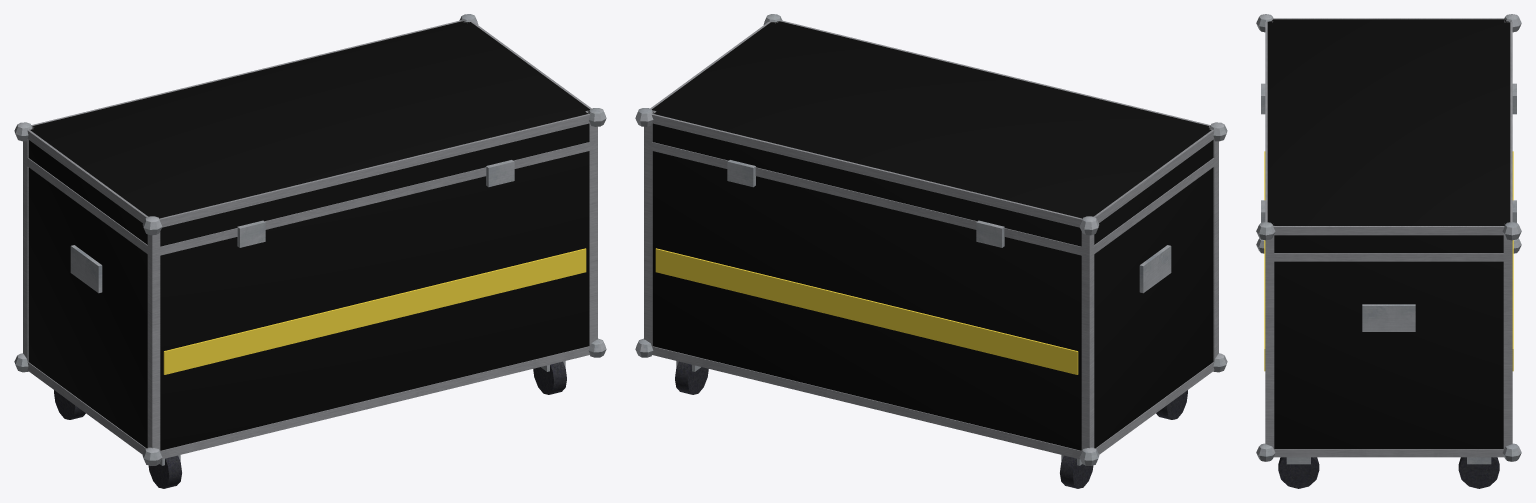
File: cable_trunk.gltf
The picture shows the model from 3 angles, left to right: view 1: azimuth 30°, elevation 25°; view 2: azimuth 150°, elevation 25°; view 3: azimuth 270°, elevation 25°; orthographic projection. The views are drawn at different scales.
Visible parts, largest first — view 1: cable_trunk; view 2: cable_trunk; view 3: cable_trunk.
Boxes of the visible parts, x1,y1,x2,y2 form: cable_trunk: (14, 14, 606, 488); cable_trunk: (635, 14, 1227, 488); cable_trunk: (1256, 14, 1521, 488).
Size of the model in its own units: 1.25 by 0.747 by 0.648.
5 materials, 4 textured.
